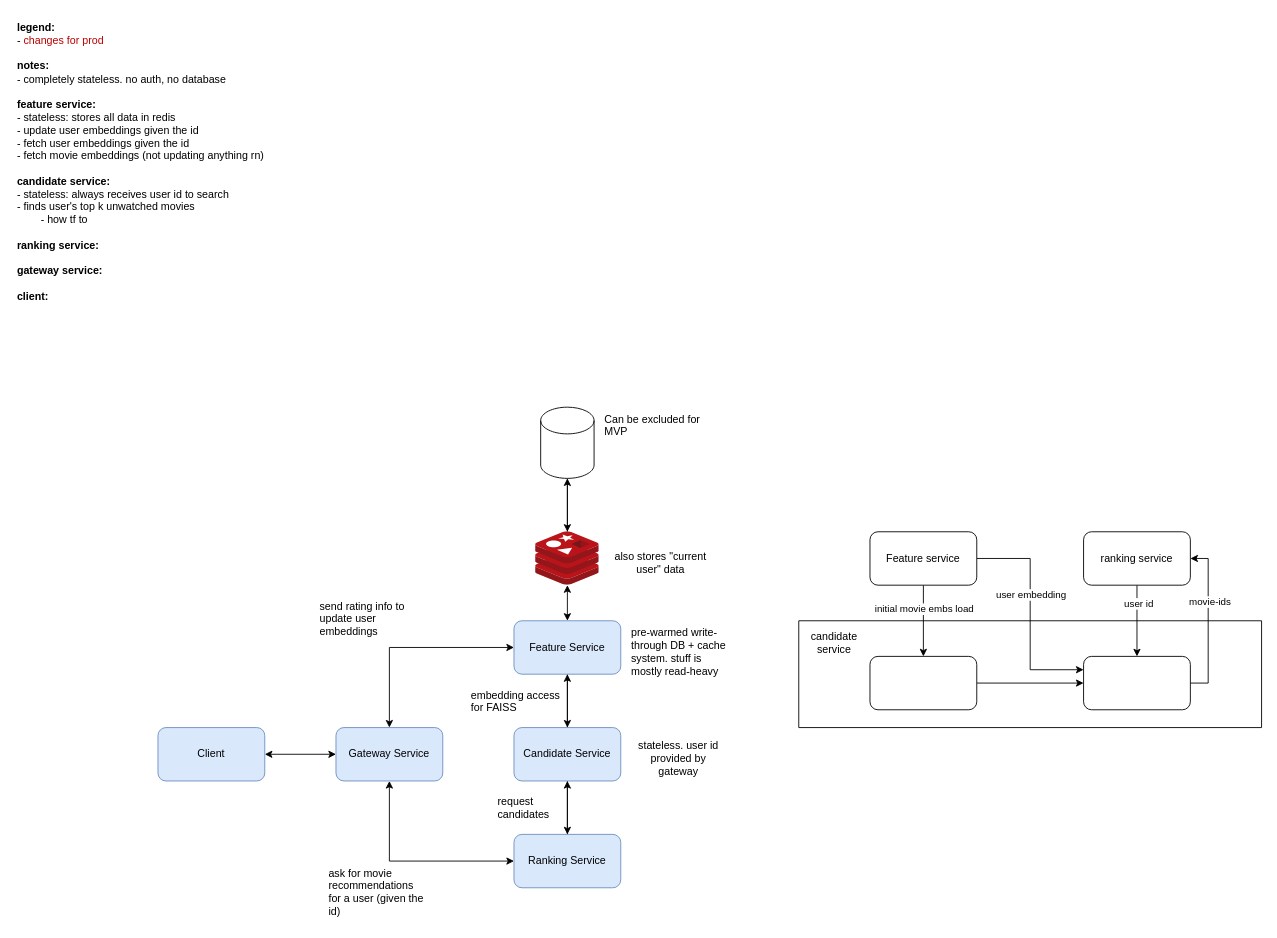
This 1277x938 diagram has some shape labels left out. The centre of each missing label's shape, as x and y in pixels:
"DB" belongs at (567,442).
"FAISS index" belongs at (923,682).
"FAISS searcher" belongs at (1136,682).
